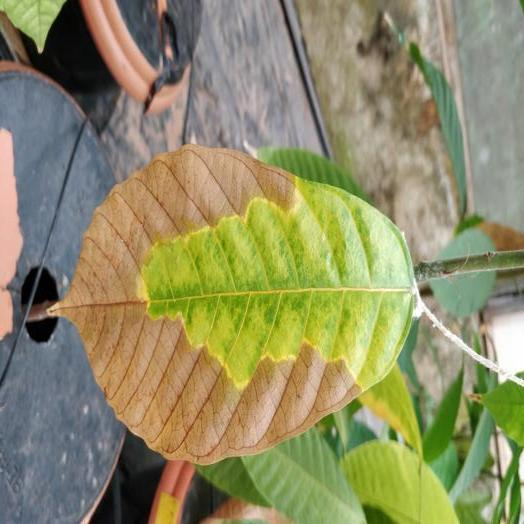Potassium: (49, 145, 415, 463)
